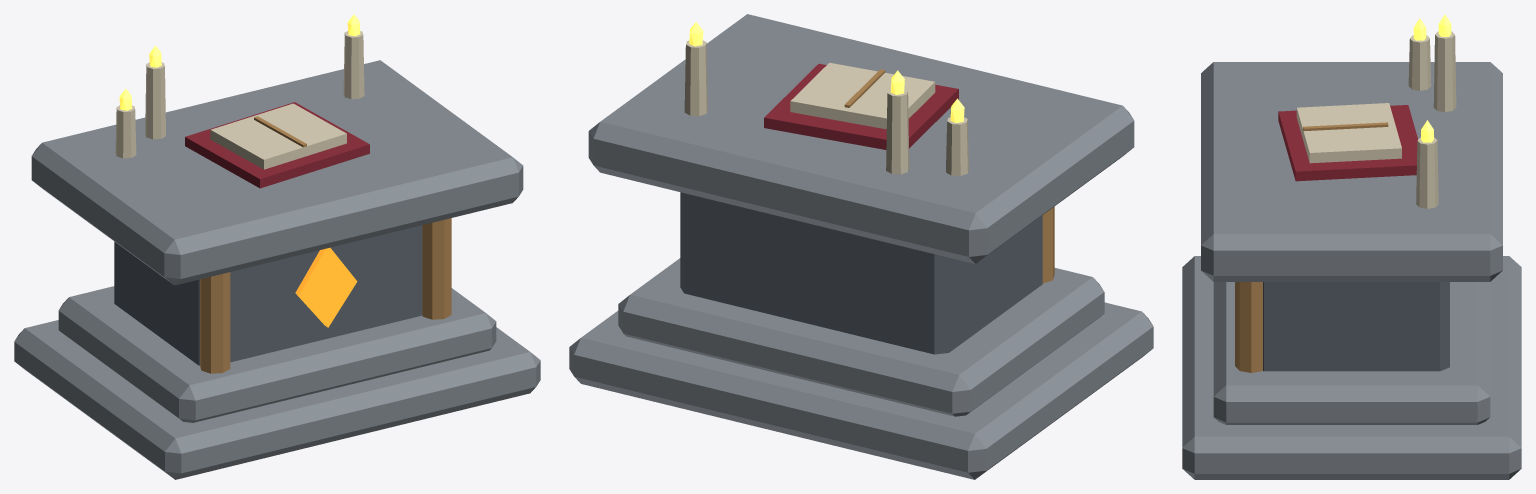
The model's file is altar.glb.
3 views of the same model, side by side, from view 1: azimuth 30°, elevation 25°; view 2: azimuth 150°, elevation 25°; view 3: azimuth 270°, elevation 25° (orthographic). The views are drawn at different scales.
Parts seen in each view (by area): view 1: altar_body_mesh; view 2: altar_body_mesh; view 3: altar_body_mesh.
Part boxes in pixels (x1,y1,x2,y2): altar_body_mesh: [14, 14, 540, 479]; altar_body_mesh: [569, 14, 1153, 479]; altar_body_mesh: [1182, 14, 1521, 479].
Size of the model in its own units: 1.8 by 1.47 by 1.35.
